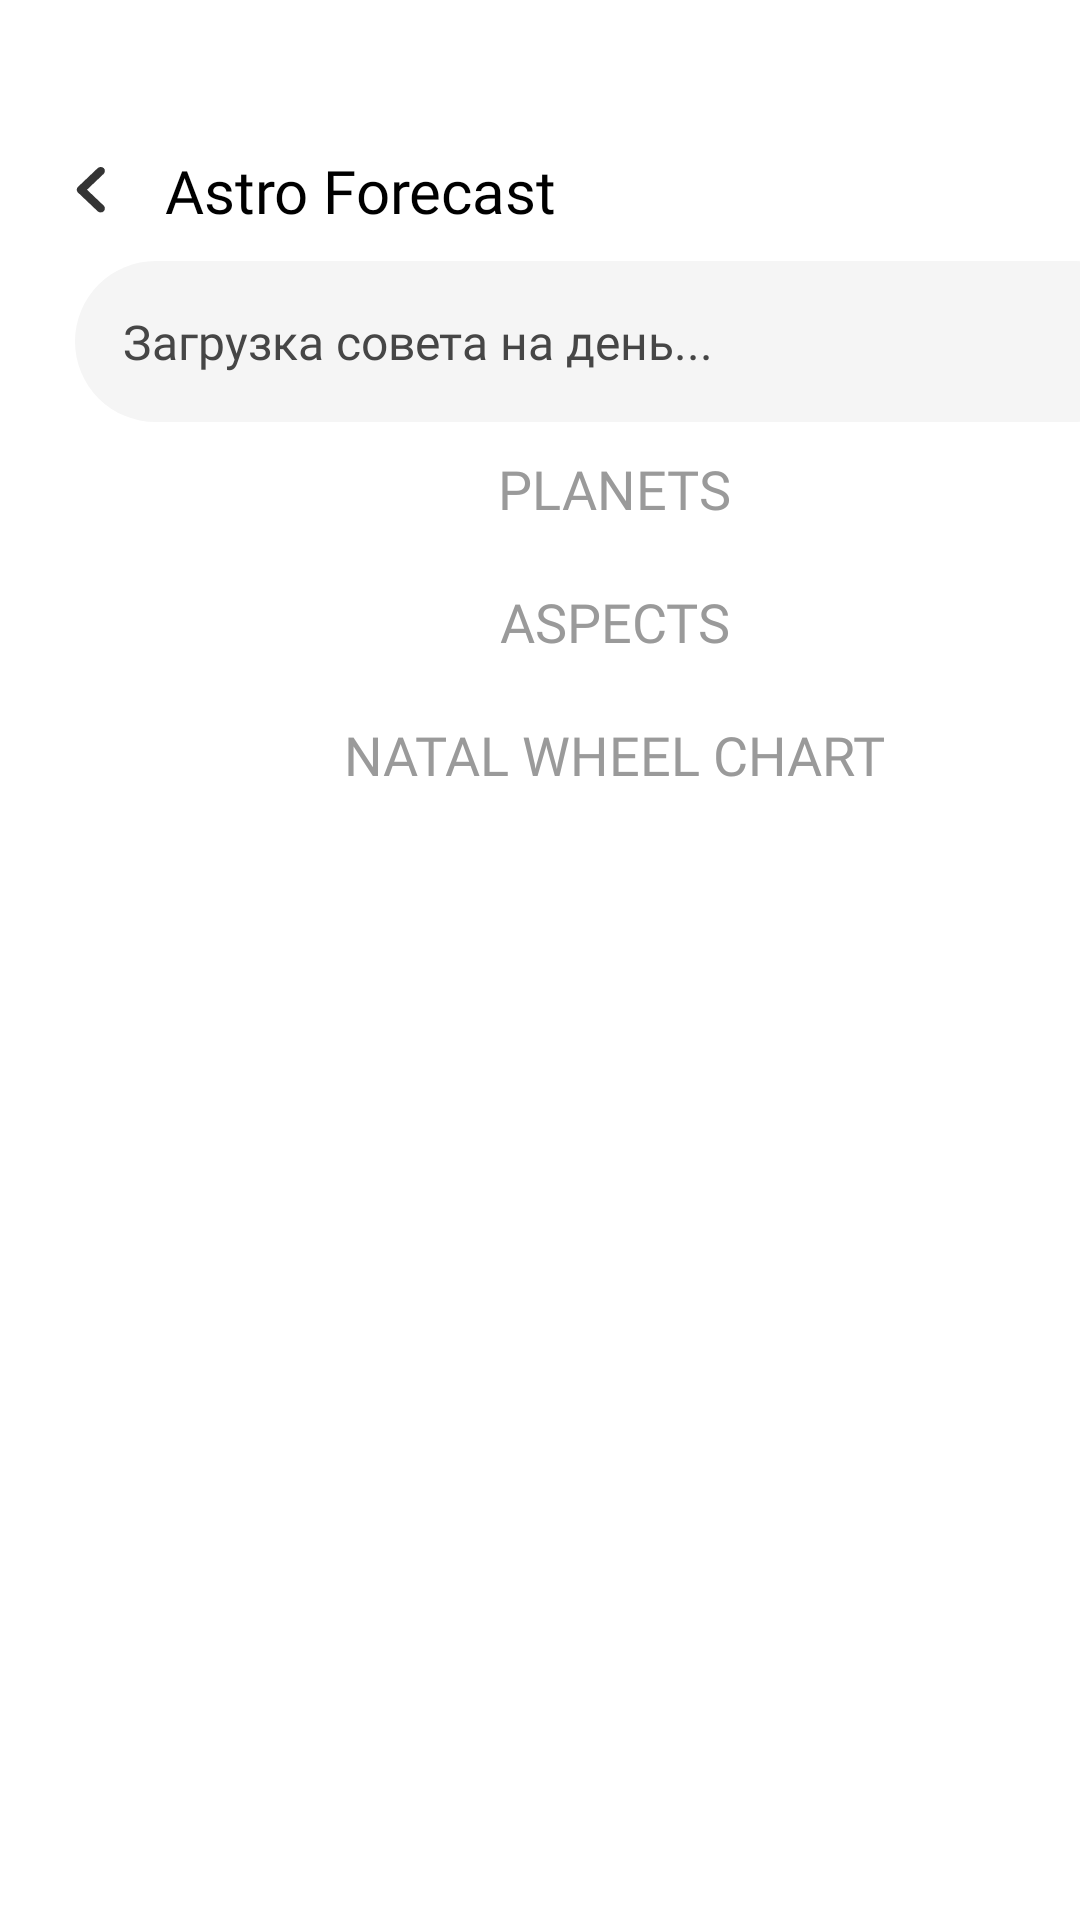

Screen size 1080 × 1920. Icon name, then its center in pixels as [x,y]:
back: [90,190]
